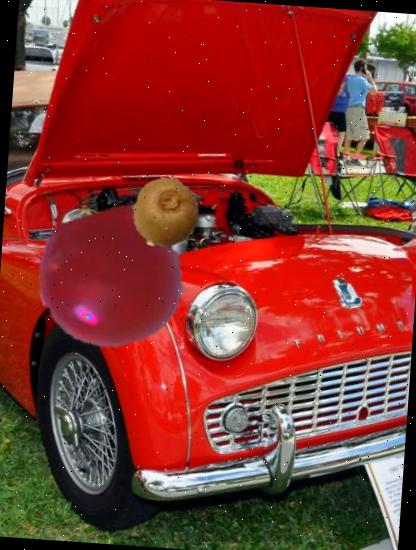Kiwi: (128, 174, 204, 252)
Redcurrant: (32, 201, 188, 356)
